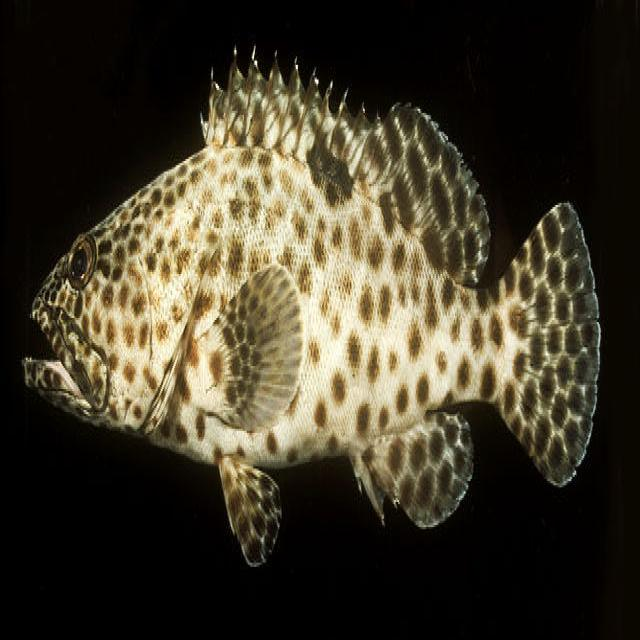ikan: (21, 42, 602, 569)
